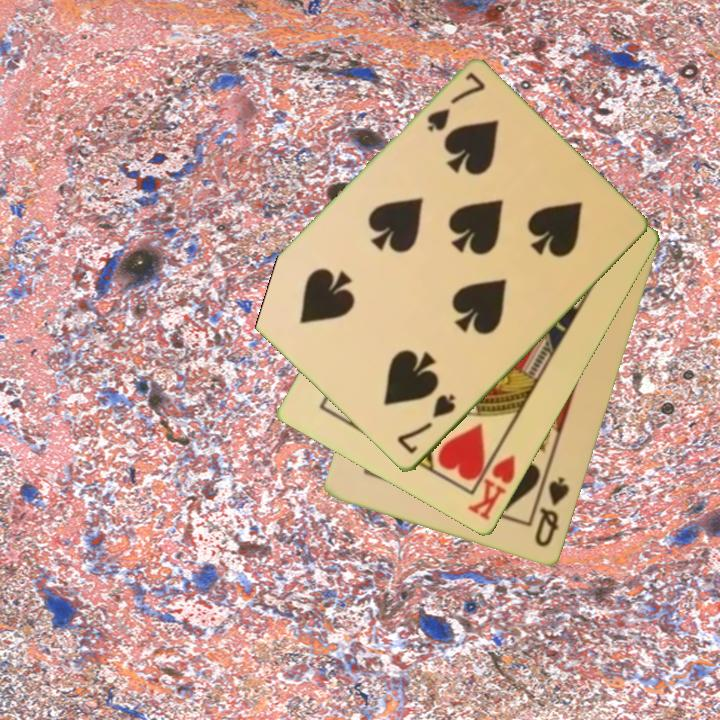7s: (393, 390, 459, 458), (423, 69, 489, 136)
Kh: (464, 440, 519, 524)
Qs: (531, 474, 573, 551)
